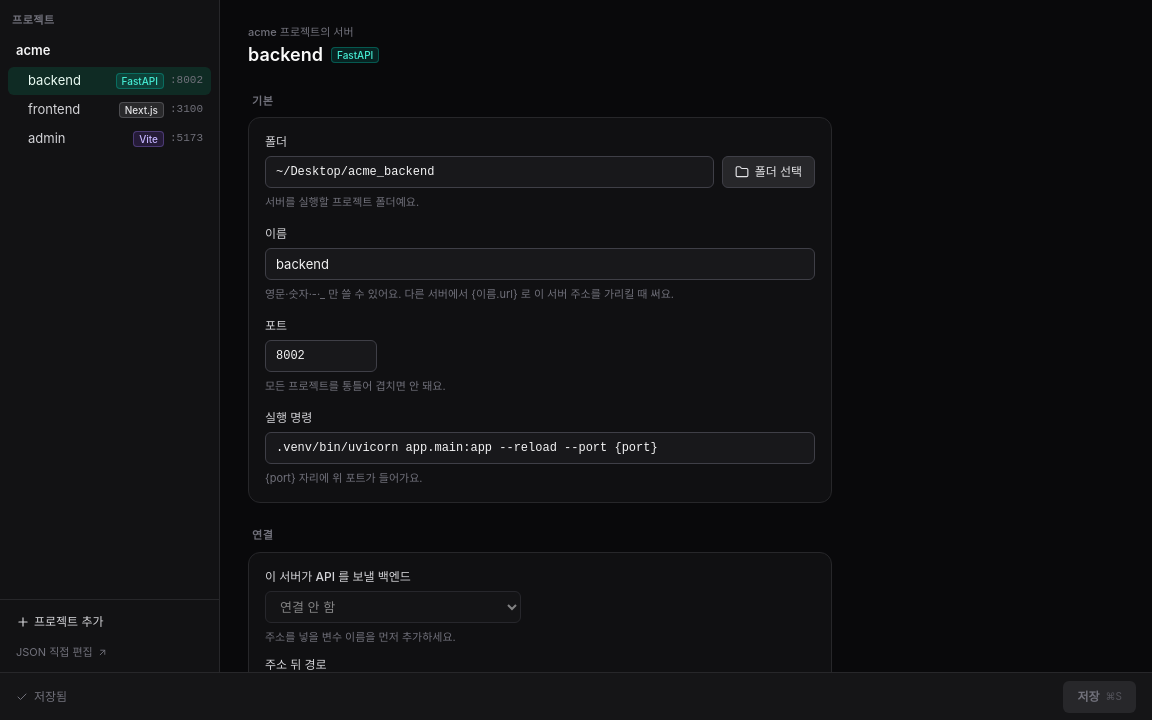
Scenario: SettingsApp — 저장 › 편집하는 동안 파일을 다시 읽어도 편집을 시작한 revision 을 보내, 밖에서 고친 파일을 덮지 않는다
The width and height of the screenshot is (1152, 720).
Expected: the heading "backend" is shown, [248,40,323,68]
Replace the text in the field labelled "포트" with "8010". click: (321, 356)
box: [265,340,377,372]
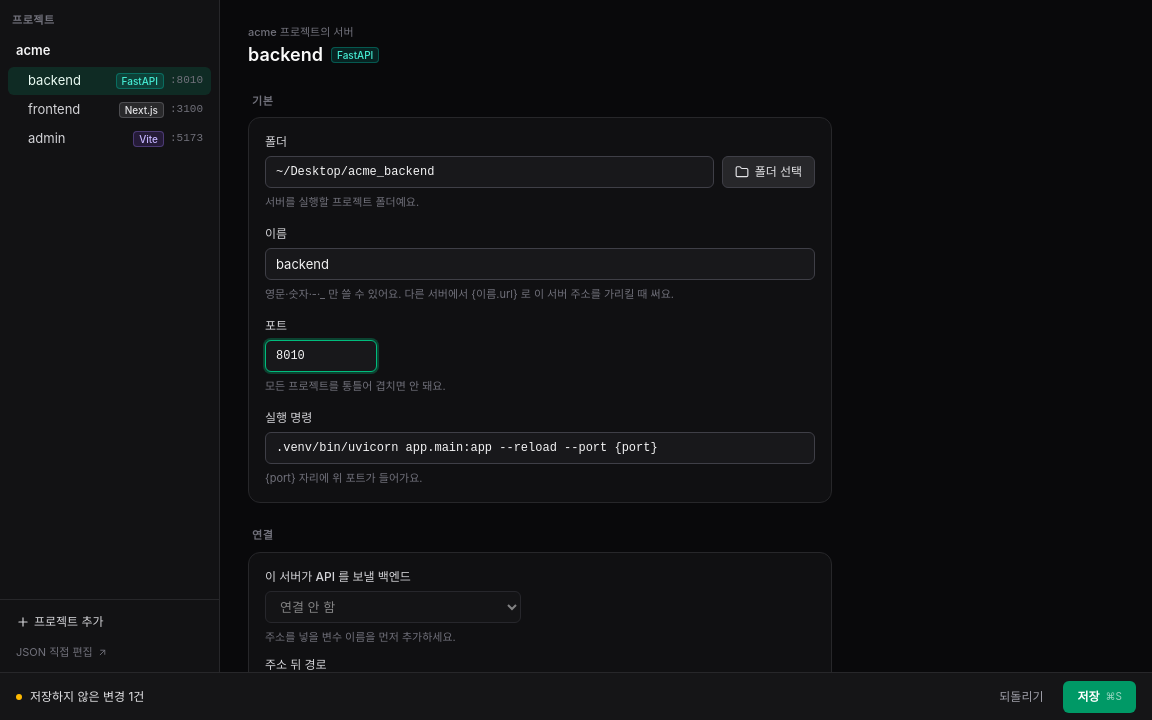
Click the button "저장 ⌘S". click: (1100, 696)
box: [1064,680,1136,712]
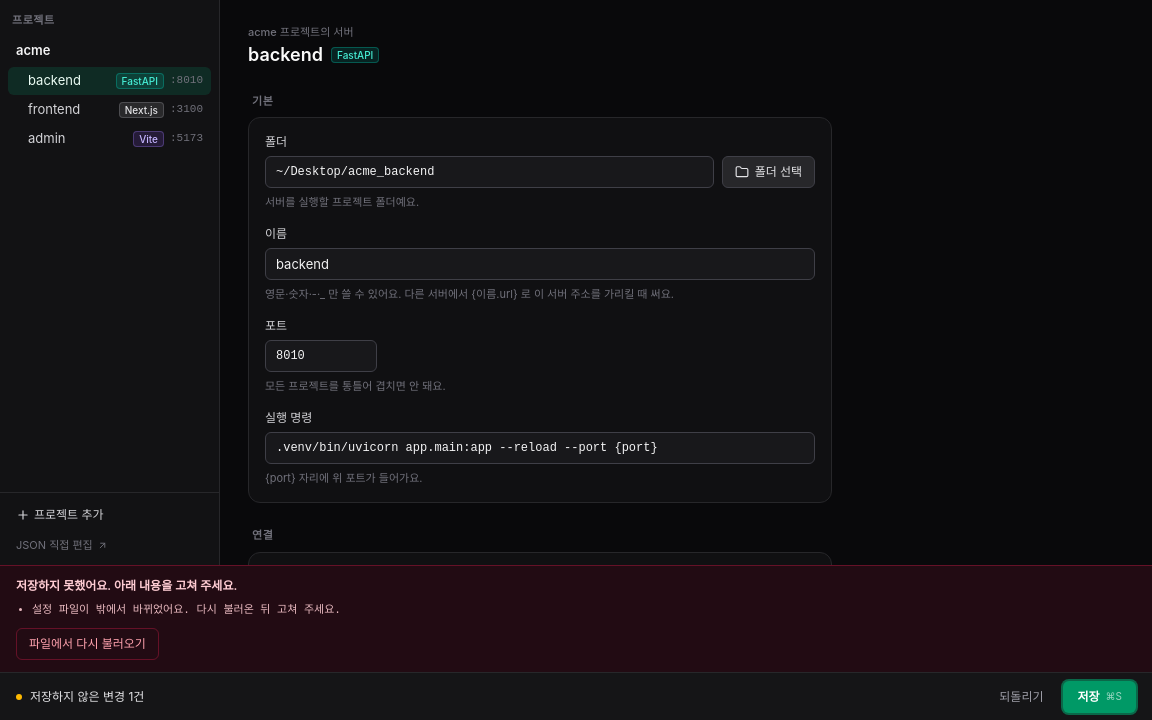
Result: the list items read "설정 파일이 밖에서 바뀌었어요. 다시 불러온 뒤 고쳐 주세요.", in this order at [32,604,341,616]
Result: the button "파일에서 다시 불러오기" is shown at [16,628,159,660]
